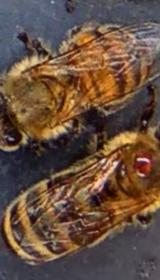varroa_mite: (125, 148, 158, 183)
